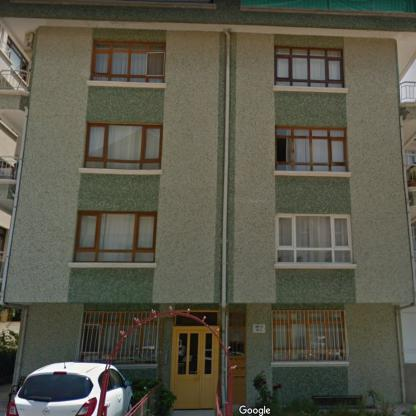door: (171, 327, 219, 408), (229, 313, 246, 402)
window: (72, 212, 157, 262), (276, 214, 353, 263), (79, 312, 151, 364), (82, 124, 162, 169), (273, 311, 344, 361), (275, 126, 346, 172), (89, 41, 166, 82), (275, 46, 344, 88), (113, 318, 158, 364), (6, 35, 28, 70), (179, 311, 219, 326), (175, 316, 204, 325), (405, 150, 415, 164)
